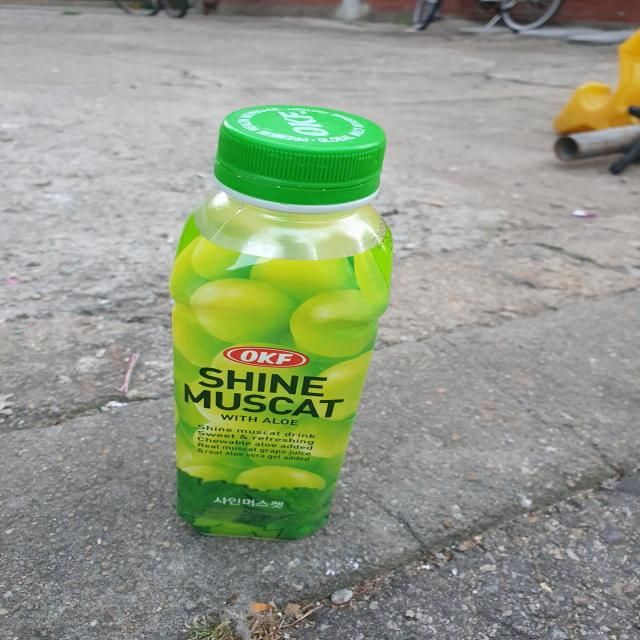plastic: (169, 104, 392, 540)
